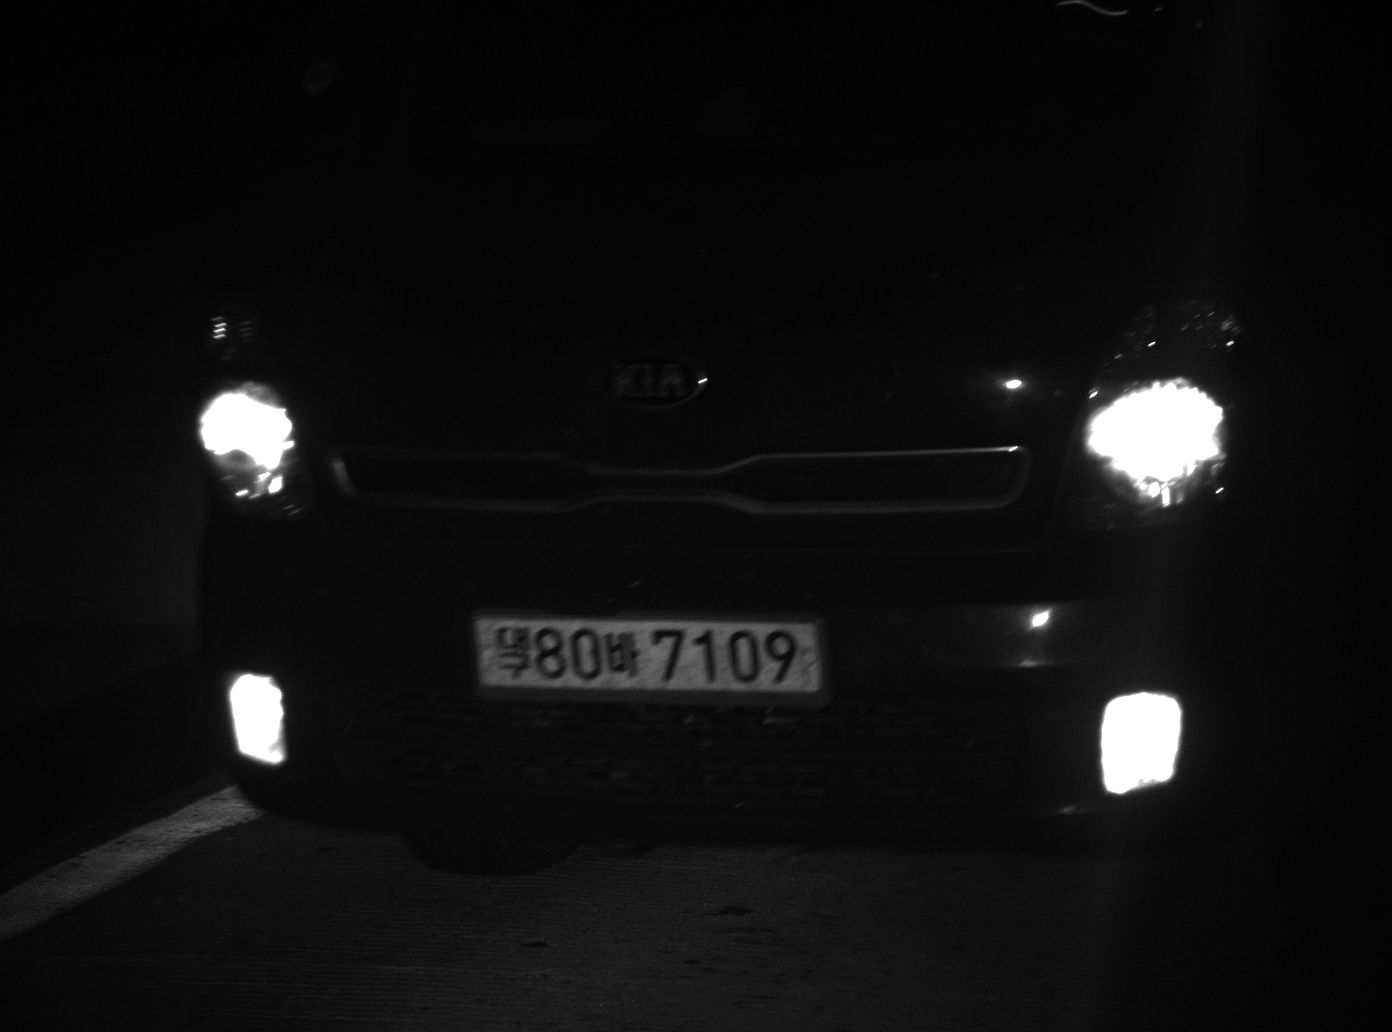car: (167, 1, 1390, 885)
plate: (471, 613, 826, 695)
